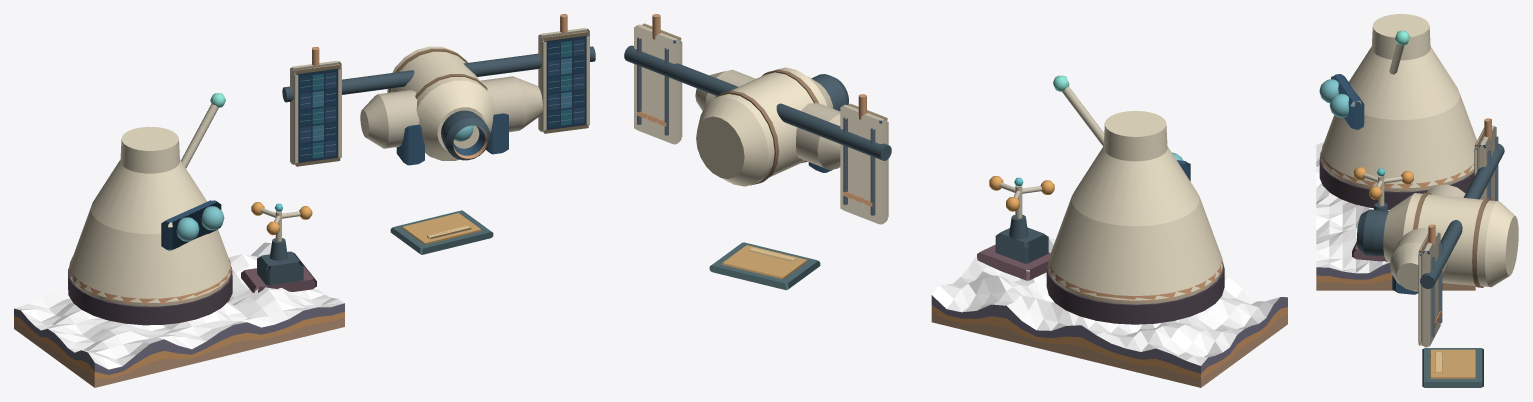
Rendered from luna-capsula.obj.
3 views of the same model, side by side, from view 1: azimuth 30°, elevation 25°; view 2: azimuth 150°, elevation 25°; view 3: azimuth 270°, elevation 25° (orthographic). The views are drawn at different scales.
Visible parts, largest first — view 1: luna-capsula; view 2: luna-capsula; view 3: luna-capsula.
Part boxes in pixels (x1,y1,x2,y2): luna-capsula: (14,14,595,387); luna-capsula: (624,14,1287,387); luna-capsula: (1316,14,1518,387).
Size of the model in its own units: 1.71 by 0.6534 by 0.5461.
